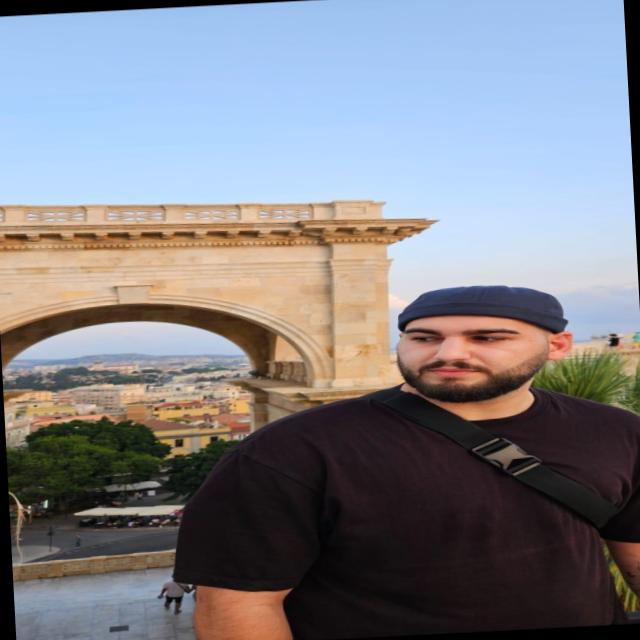Sero: (390, 280, 581, 410)
